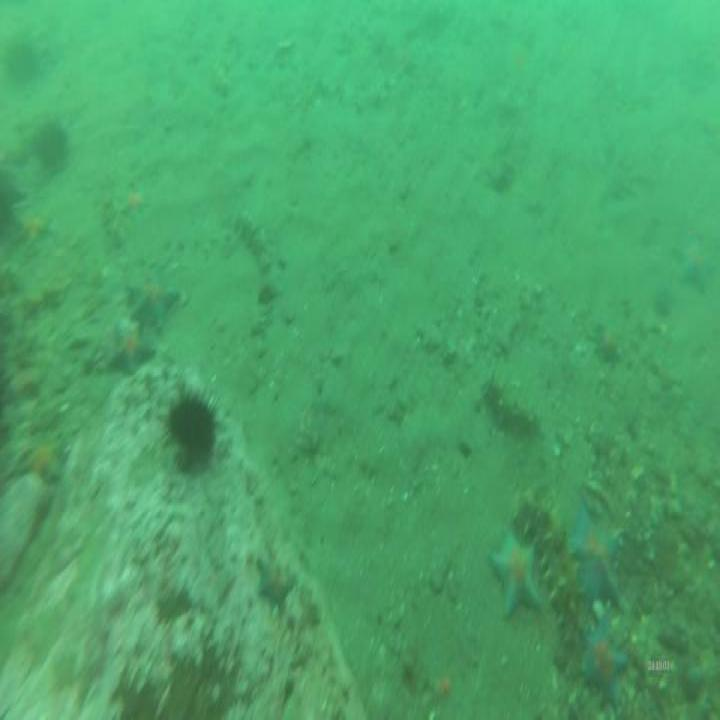echinus: (168, 388, 214, 466), (32, 114, 70, 183), (6, 36, 42, 84)
holothurian: (513, 494, 591, 672), (231, 204, 278, 306), (483, 365, 537, 430)
starfish: (564, 507, 625, 608), (491, 526, 541, 622), (579, 626, 628, 704), (109, 314, 156, 380), (131, 272, 180, 331), (675, 233, 717, 295), (26, 434, 63, 489), (594, 313, 624, 366), (17, 212, 49, 254)
